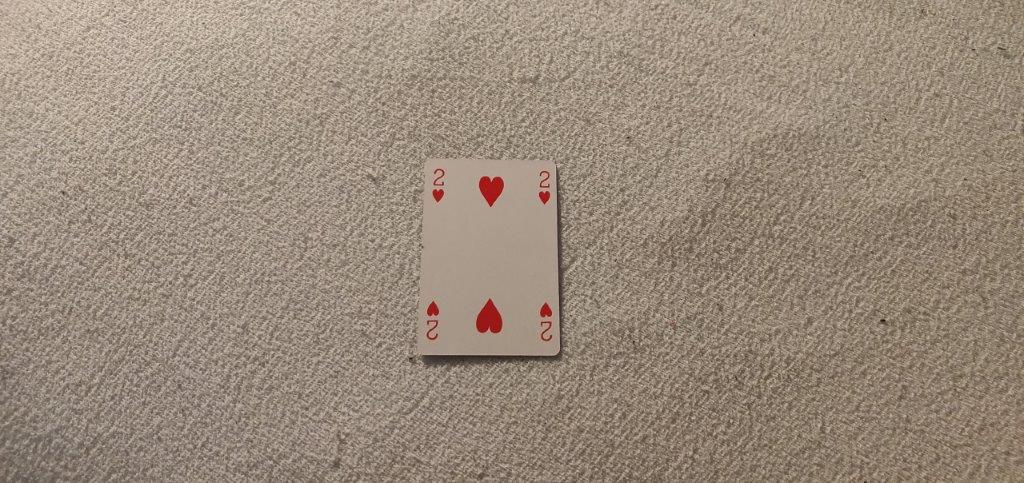2H: (430, 166, 452, 205), (532, 168, 553, 208)
